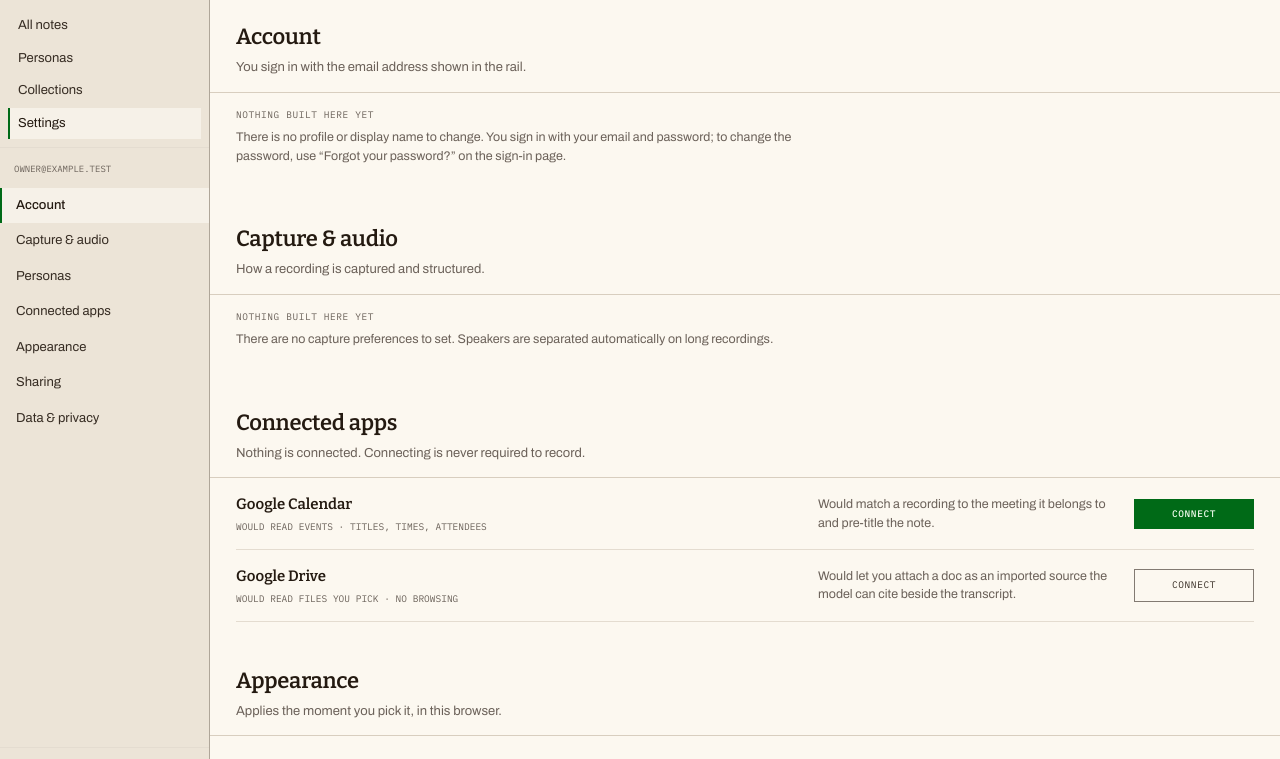
SettingsShell › Connect says it is not built, instead of doing nothing or faking success
This screenshot has width=1280, height=759.
Click the button with aria-label "Connect Google Calendar".
click(1194, 514)  # box left=1134, top=498, right=1254, bottom=529
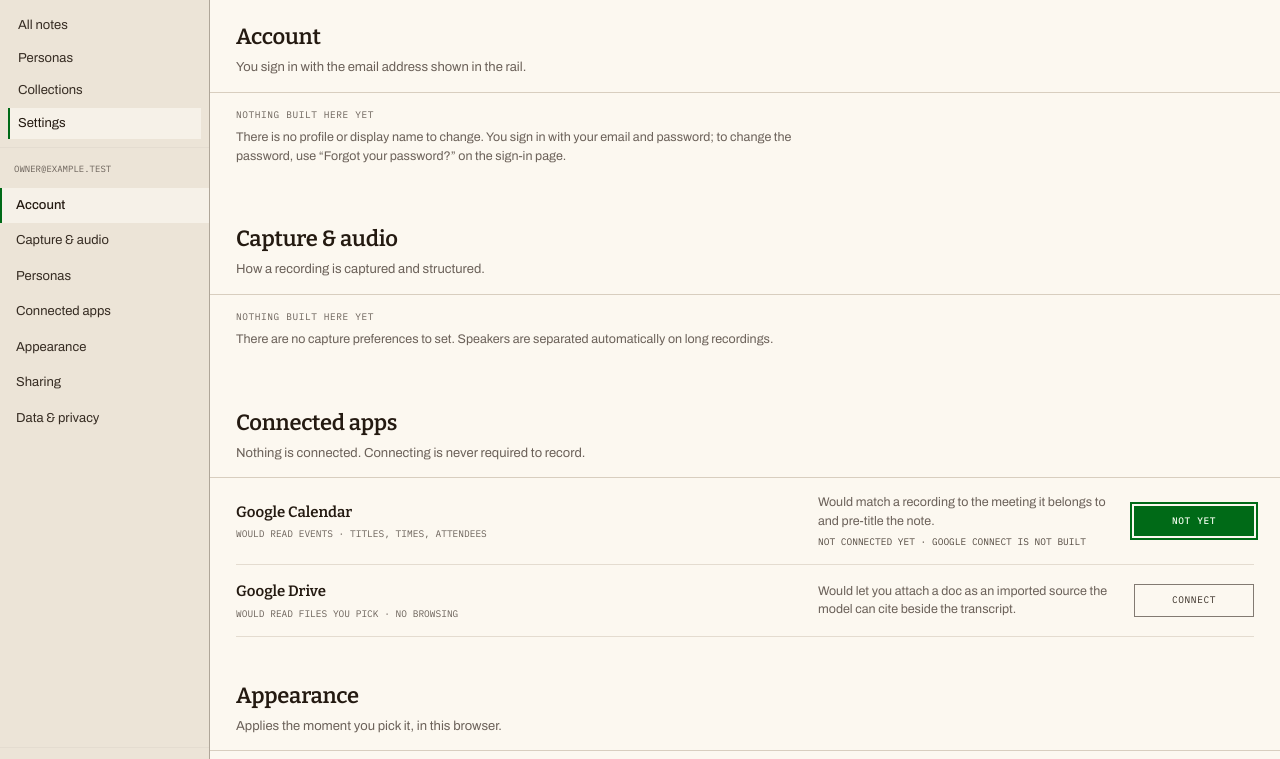
Expected: the text "Not connected yet · Google connect is not built" is shown, left=818, top=535, right=1118, bottom=549
